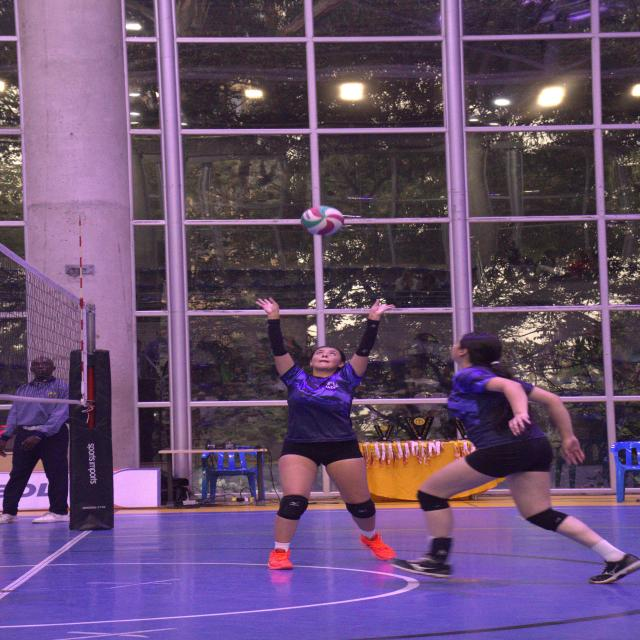volleyball: (300, 205, 344, 236)
